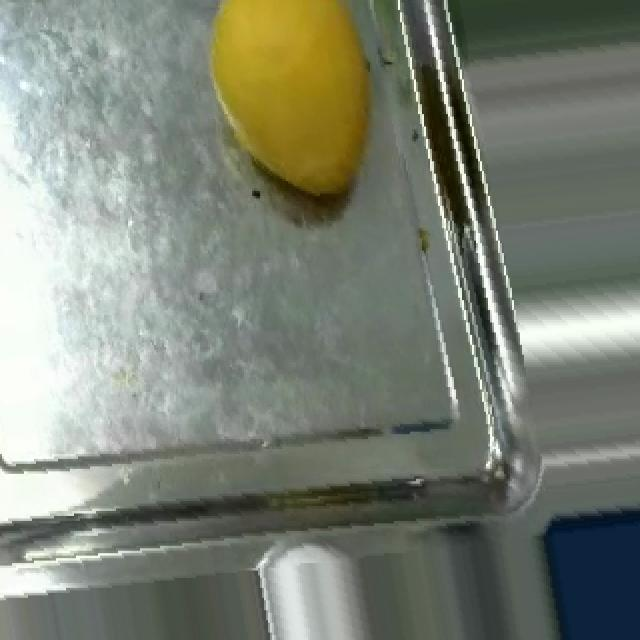fruit: (176, 0, 414, 233), (518, 479, 640, 640)
